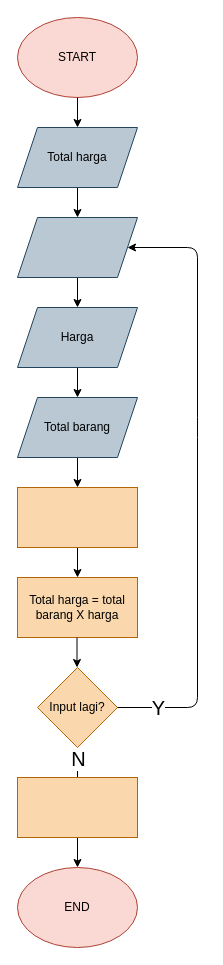
Some shapes in this 223 by 965 pixel diagram are drawn without their labels. The centre of each missing label's shape, as x and y in pixels:
"Barang" goes at point 77,247.
"Print total harga dan total barang" goes at point 77,807.
"Total barang += barang" goes at point 77,517.
